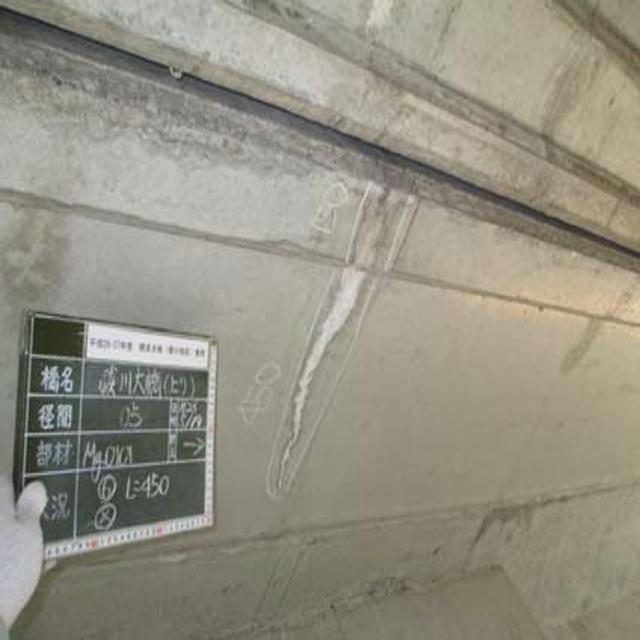freelime: (280, 200, 373, 481)
